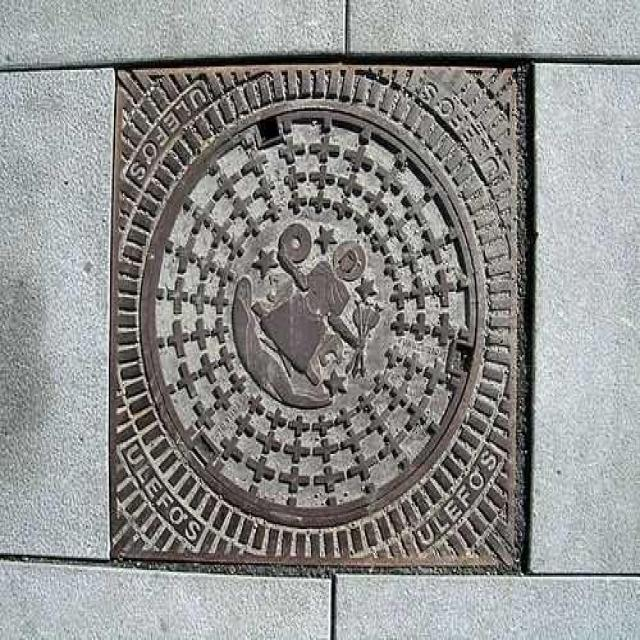manhole: (111, 63, 526, 571)
